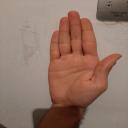OpenPalm: (48, 10, 126, 108)
